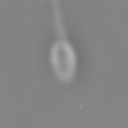normal: (42, 1, 73, 38)
